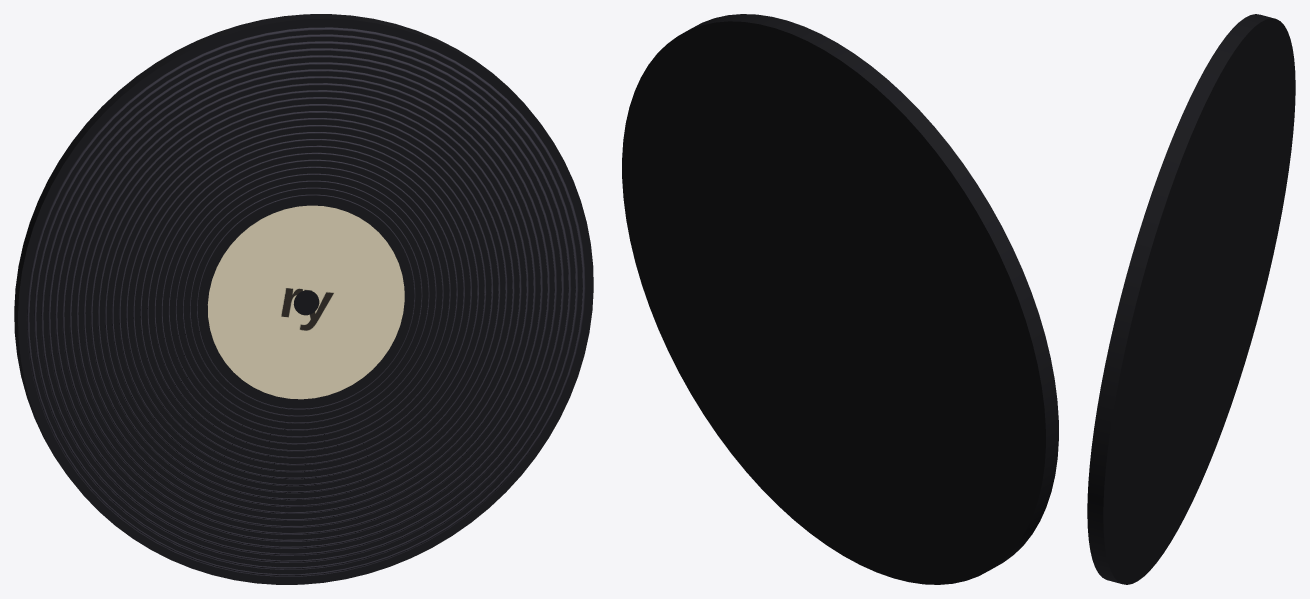
File: rycord-cea81ae107.glb
3 views of the same model, side by side, from view 1: azimuth 30°, elevation 25°; view 2: azimuth 150°, elevation 25°; view 3: azimuth 270°, elevation 25° (orthographic). The views are drawn at different scales.
Size of the model in its own units: 5.78 by 5.96 by 2.13.
3 materials, 1 textured.
